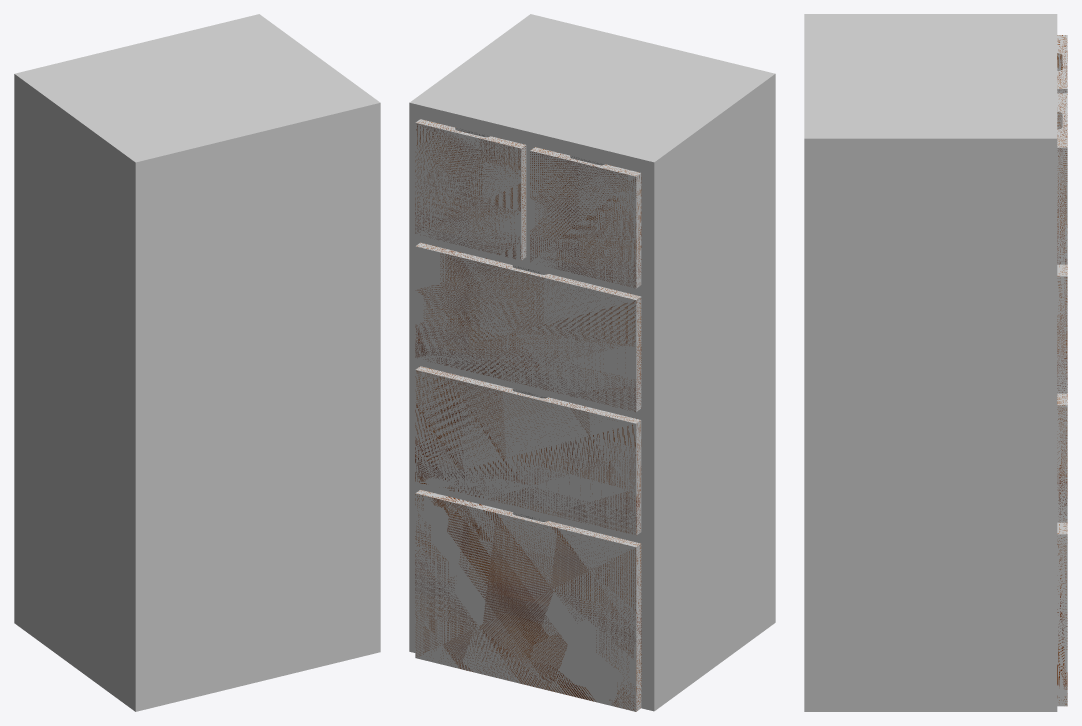
3 renders of one model, left to right at view 1: azimuth 30°, elevation 25°; view 2: azimuth 150°, elevation 25°; view 3: azimuth 270°, elevation 25°, orthographic. The views are drawn at different scales.
Parts seen in each view (by area): view 1: mesh1_mesh1-geometry; view 2: mesh1_mesh1-geometry; view 3: mesh1_mesh1-geometry.
Boxes of the visible parts, x1=… form: mesh1_mesh1-geometry: x1=14, y1=14, x2=380, y2=711; mesh1_mesh1-geometry: x1=409, y1=14, x2=775, y2=711; mesh1_mesh1-geometry: x1=804, y1=14, x2=1067, y2=711.
Size of the model in its own units: 0.3956 by 0.8478 by 0.3532.
